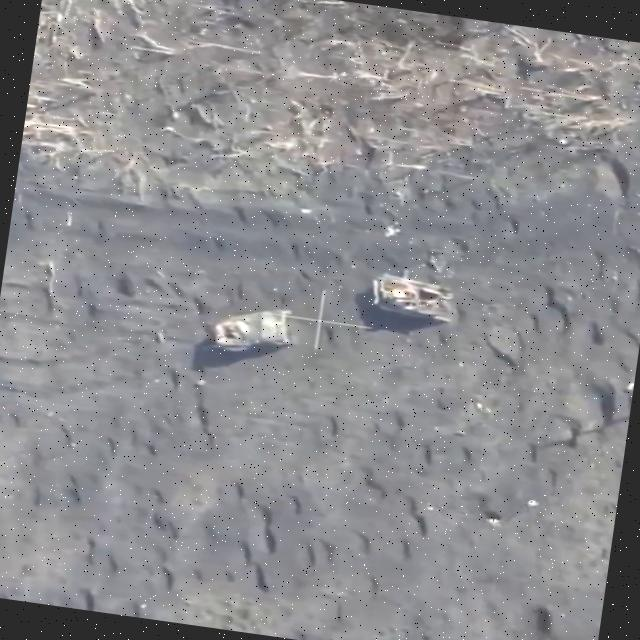AIFV: (213, 301, 298, 358)
Destroyed: (370, 271, 461, 327)
